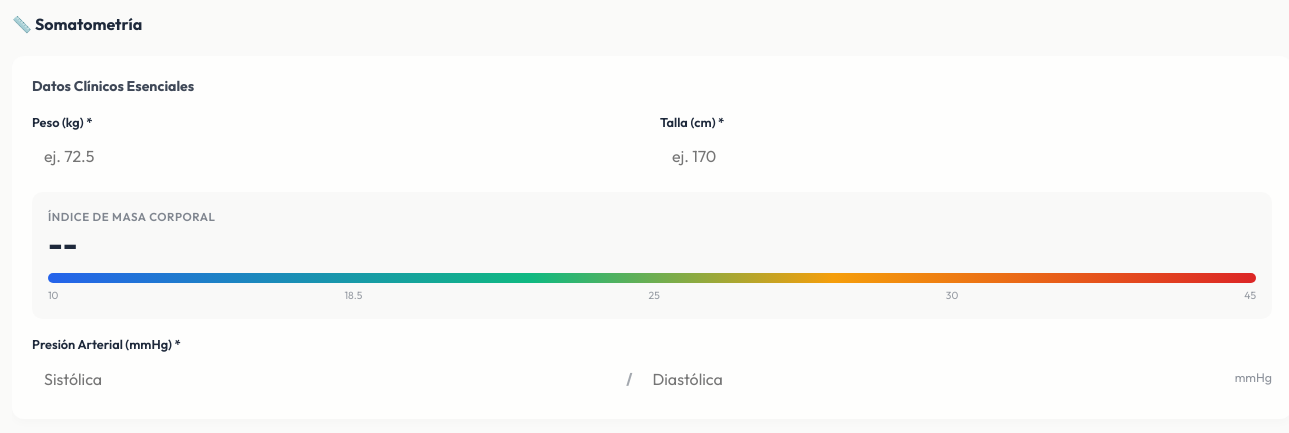
SomatometricsForm Component › updates calculations dynamically in real time when user inputs peso and talla
In the number field with placeholder "ej. 72.5": (338, 156) [32,136,644,176], type "70"
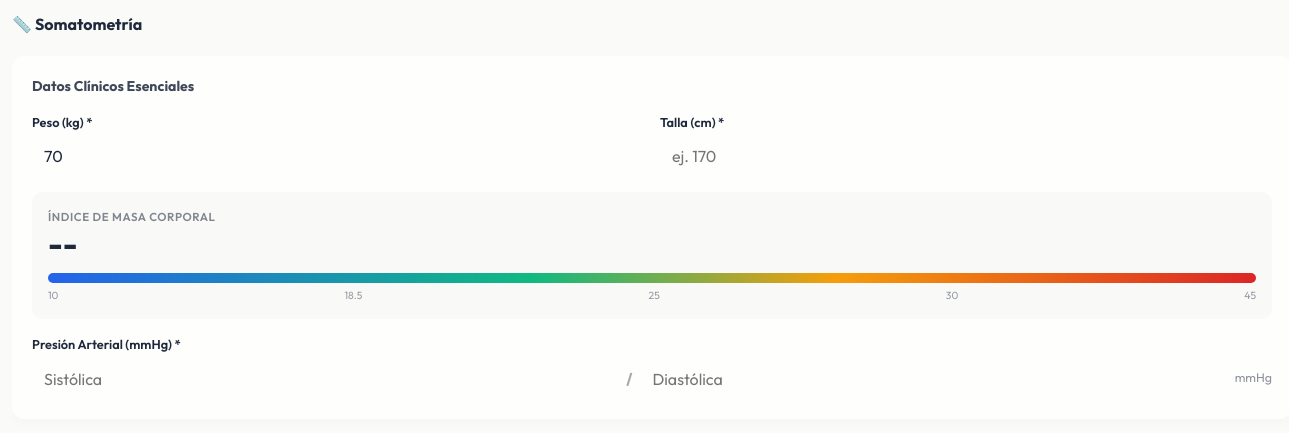
In the number field with placeholder "ej. 170": (966, 156) [660,136,1272,176], type "178"
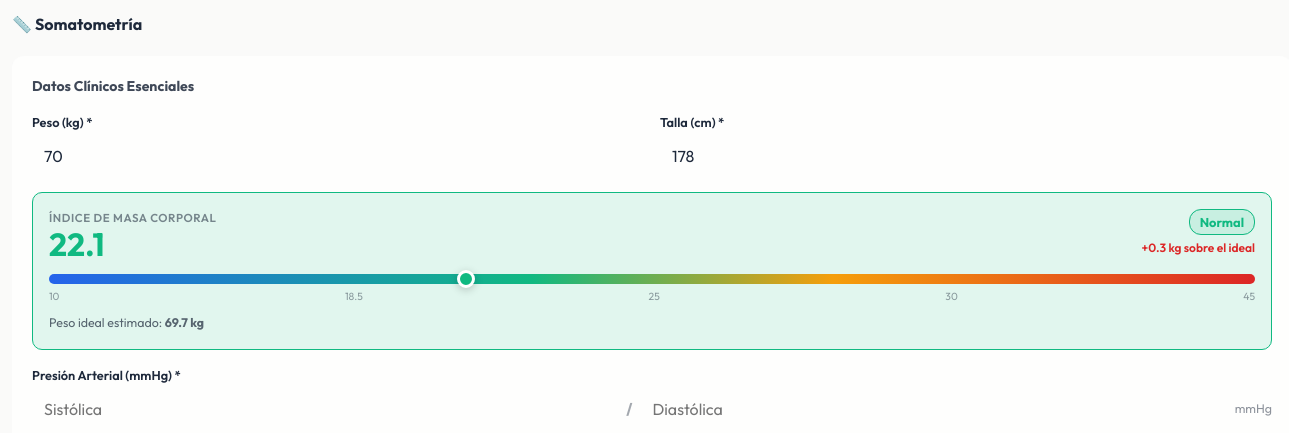
Now the text "22.1" is shown, box [49,224,104,264]
Now the text "Normal" is shown, box [1189,209,1255,235]
Now the text "Peso ideal estimado: 69.7 kg" is shown, box [49,315,204,330]
